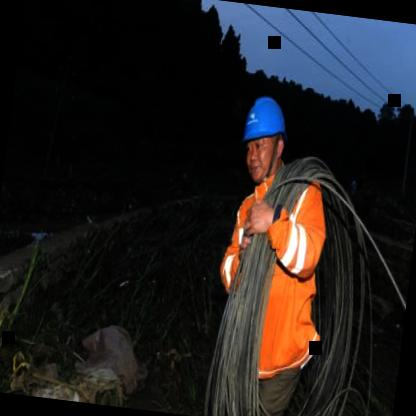helmet: (234, 83, 296, 194)
